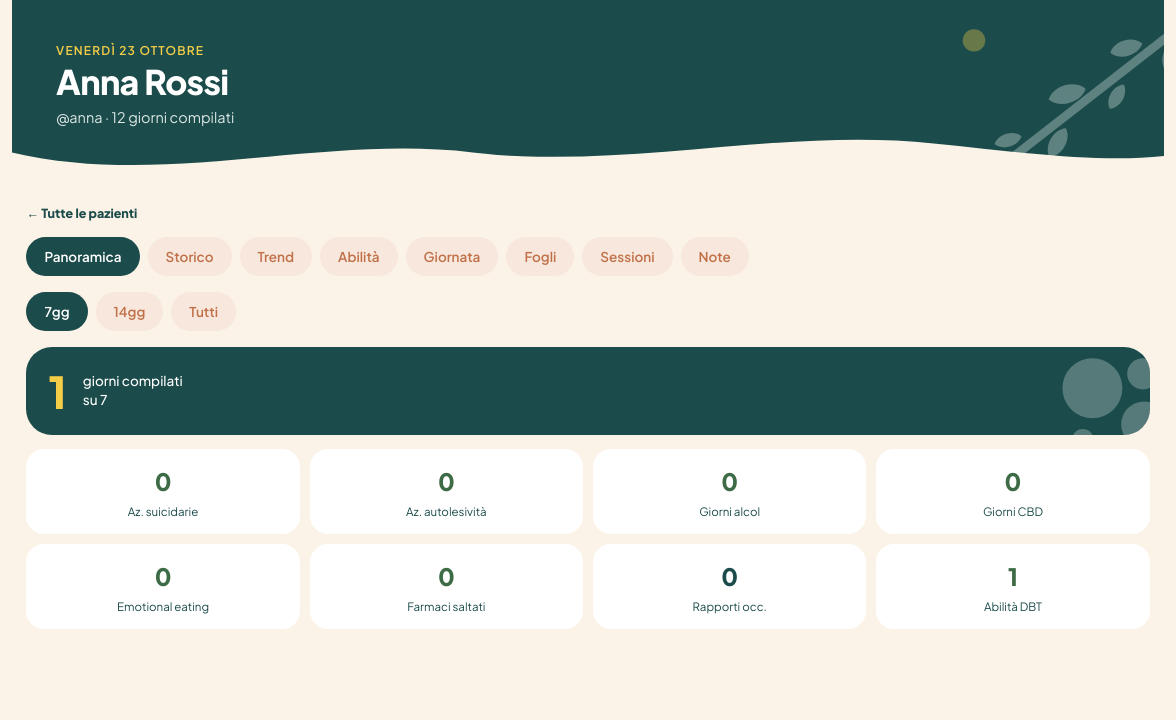
it: scheda paziente › la vista Abilità conta le spunte e la vista Giornata mostra il piano
The width and height of the screenshot is (1176, 720).
Check: the text "Az. suicidarie" is shown, box left=128, top=505, right=198, bottom=520
Click the button "Abilità". click: [359, 256]
box: left=320, top=237, right=398, bottom=276
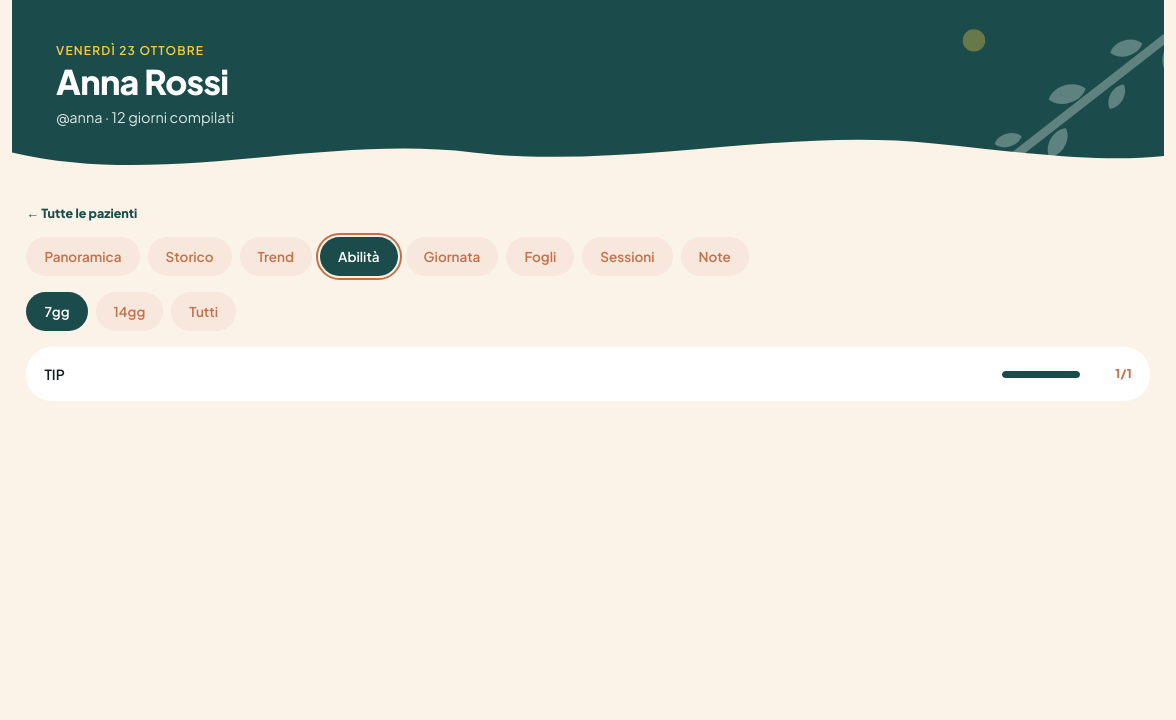
Check: the text "TIP" is shown, box left=44, top=365, right=65, bottom=383
Check: the text "1/1" is shown, box left=1115, top=366, right=1132, bottom=381
Click the button "Giornata". click: [452, 256]
box: left=406, top=237, right=498, bottom=276
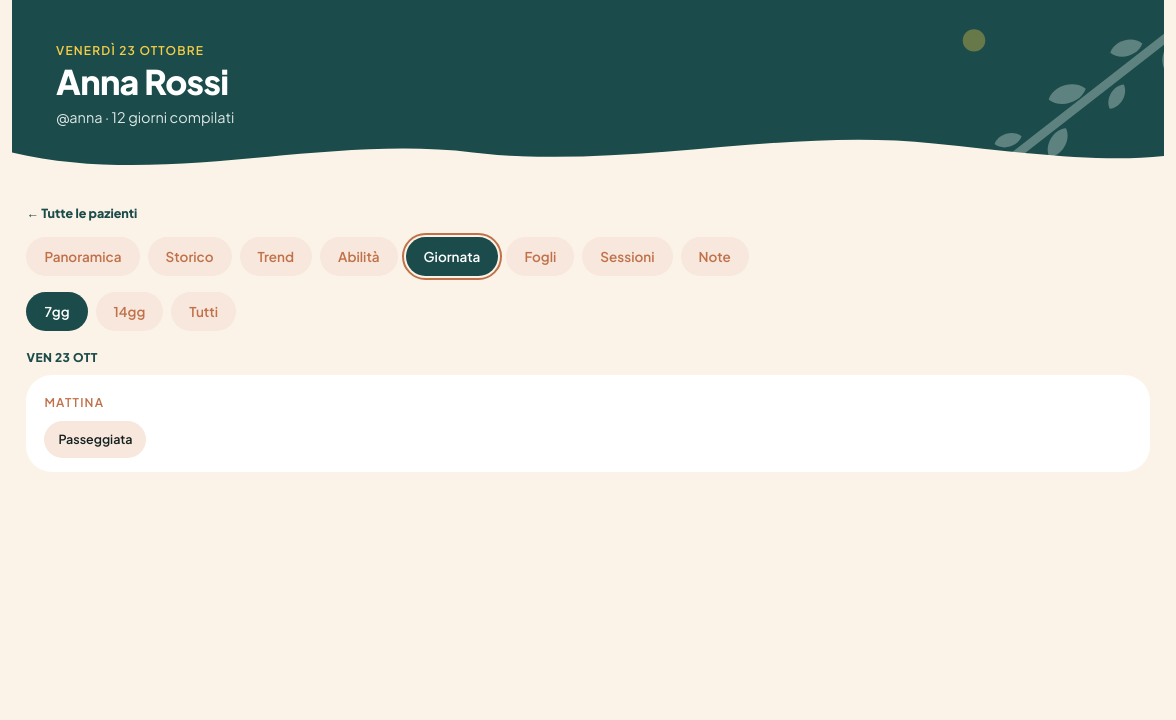
Check: the text "Passeggiata" is shown, box left=44, top=421, right=146, bottom=458
Check: the text "Mattina" is shown, box left=44, top=395, right=104, bottom=410
